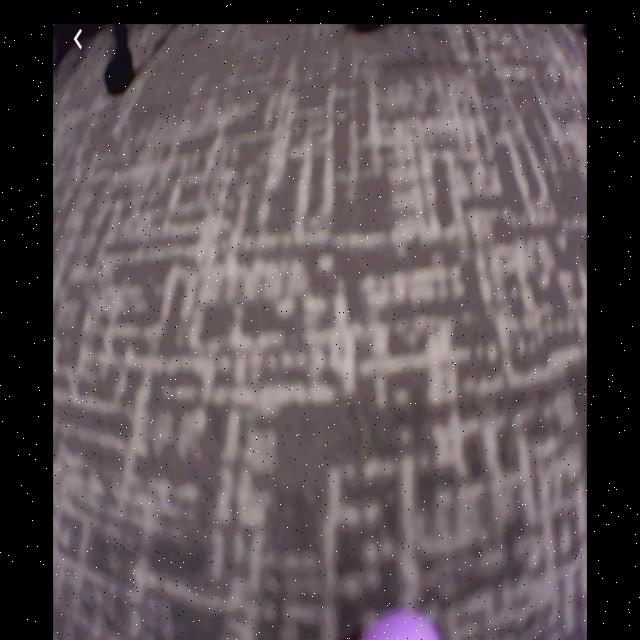ball: (361, 612, 443, 640)
